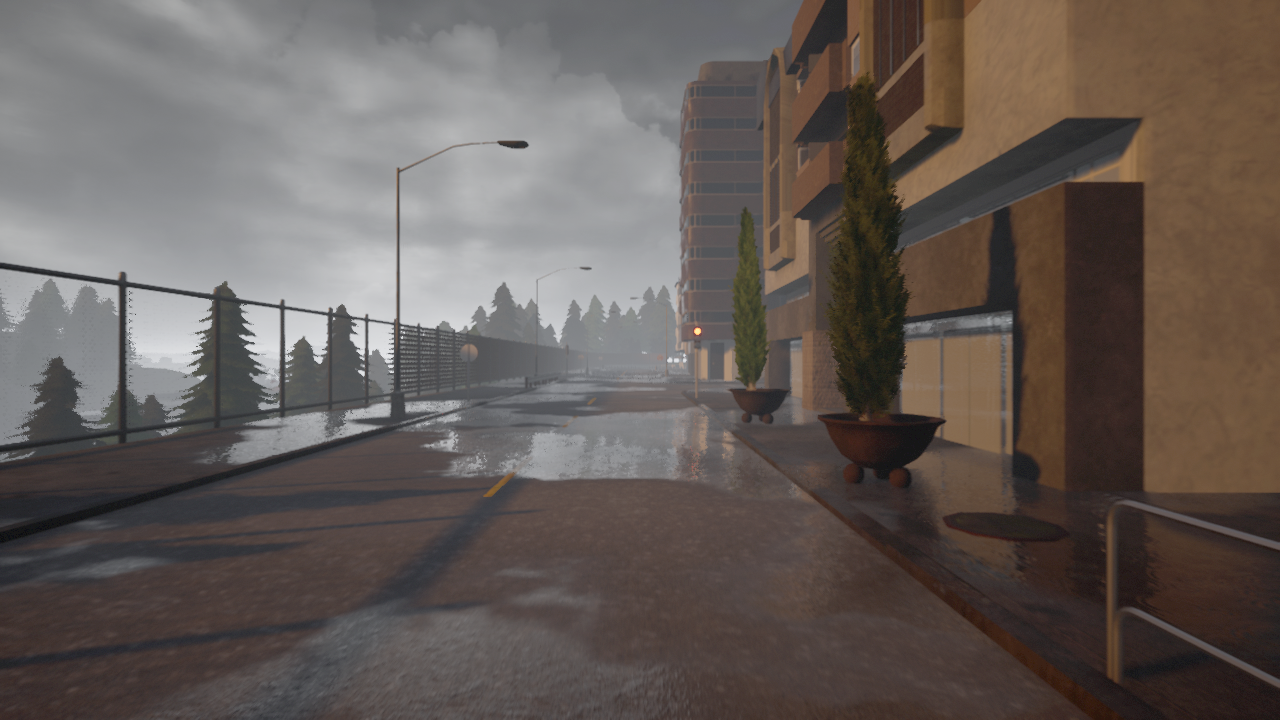red: (693, 325, 703, 349)
